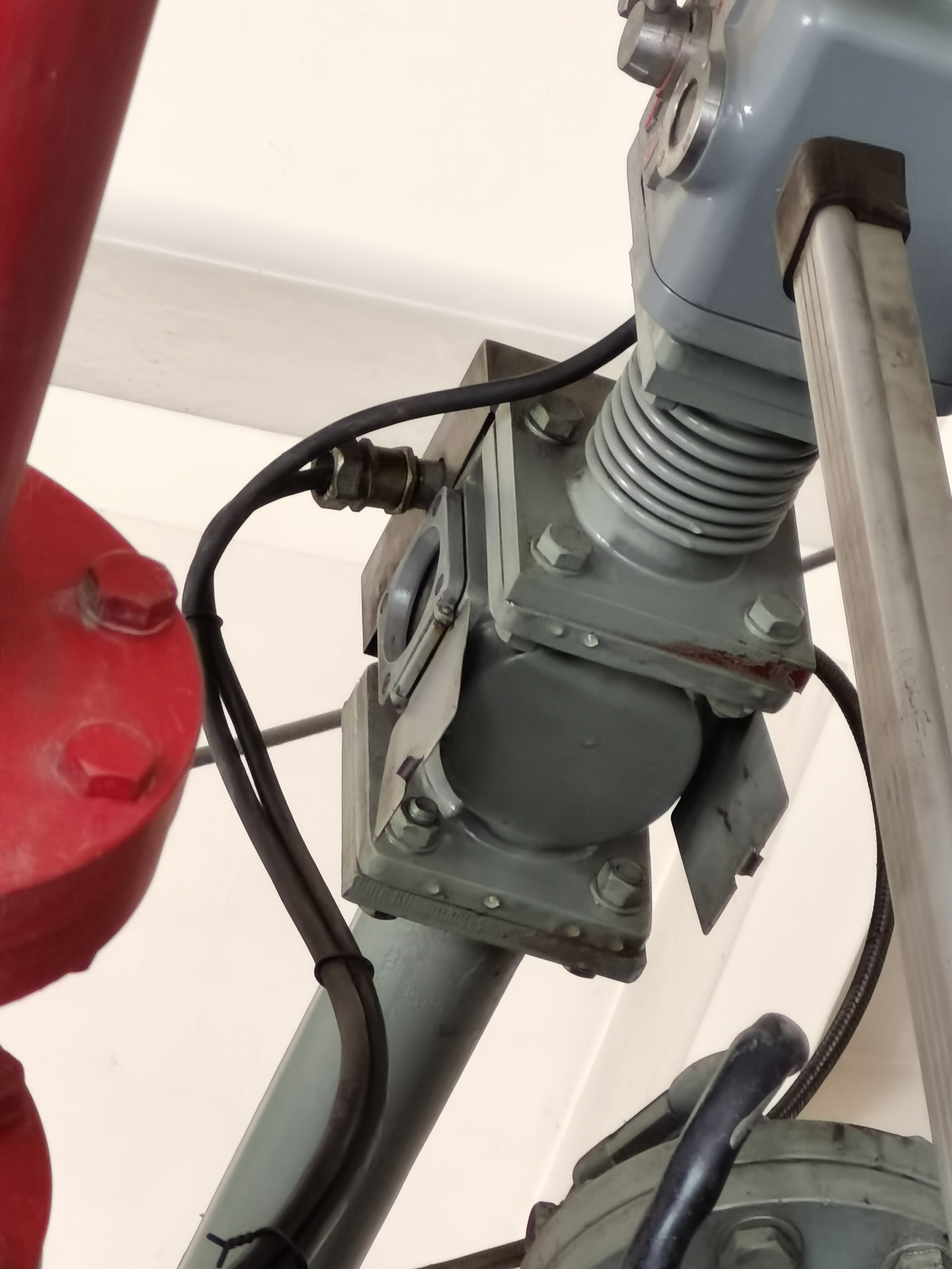cysb_qtjdq: (370, 481, 468, 706)
sly_bjbmyw: (332, 333, 823, 990), (487, 1009, 952, 1269)
